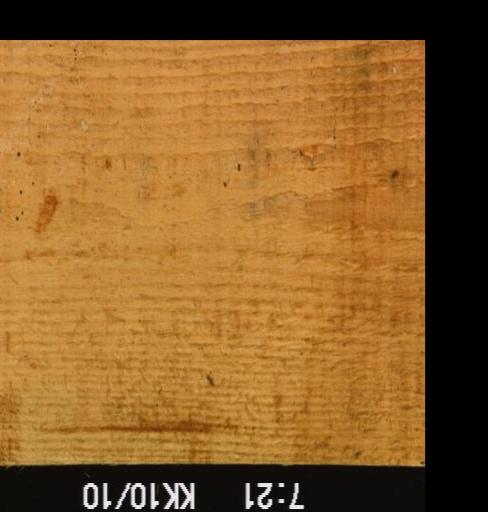small_knot: (386, 168, 400, 180)
